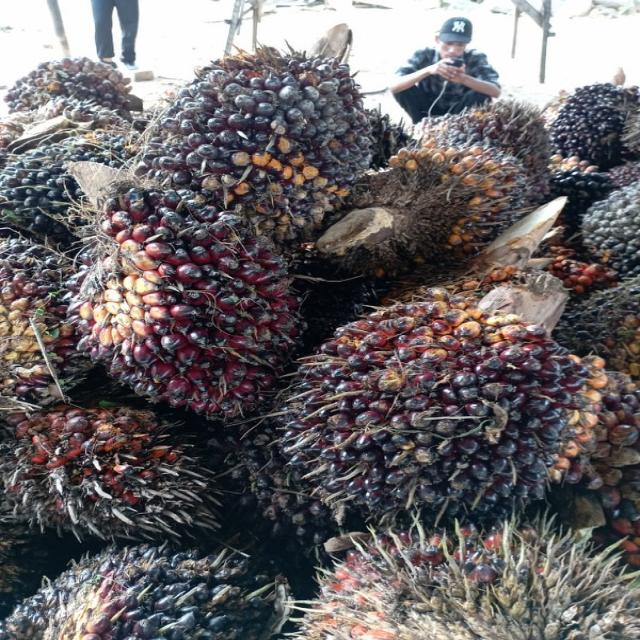fraksi 00: (270, 292, 596, 514), (145, 54, 393, 228), (0, 542, 263, 640), (0, 142, 126, 228)
fraksi 1: (59, 187, 296, 405)
fraksi 4: (0, 396, 218, 540)
